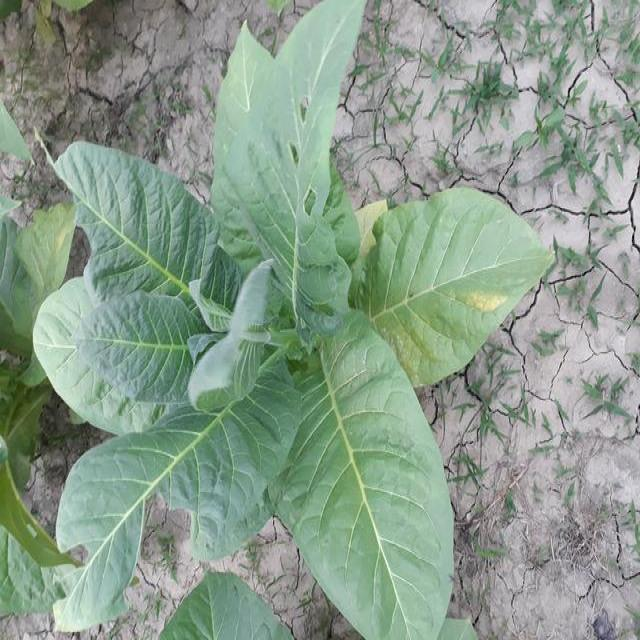crop: (42, 9, 553, 640)
